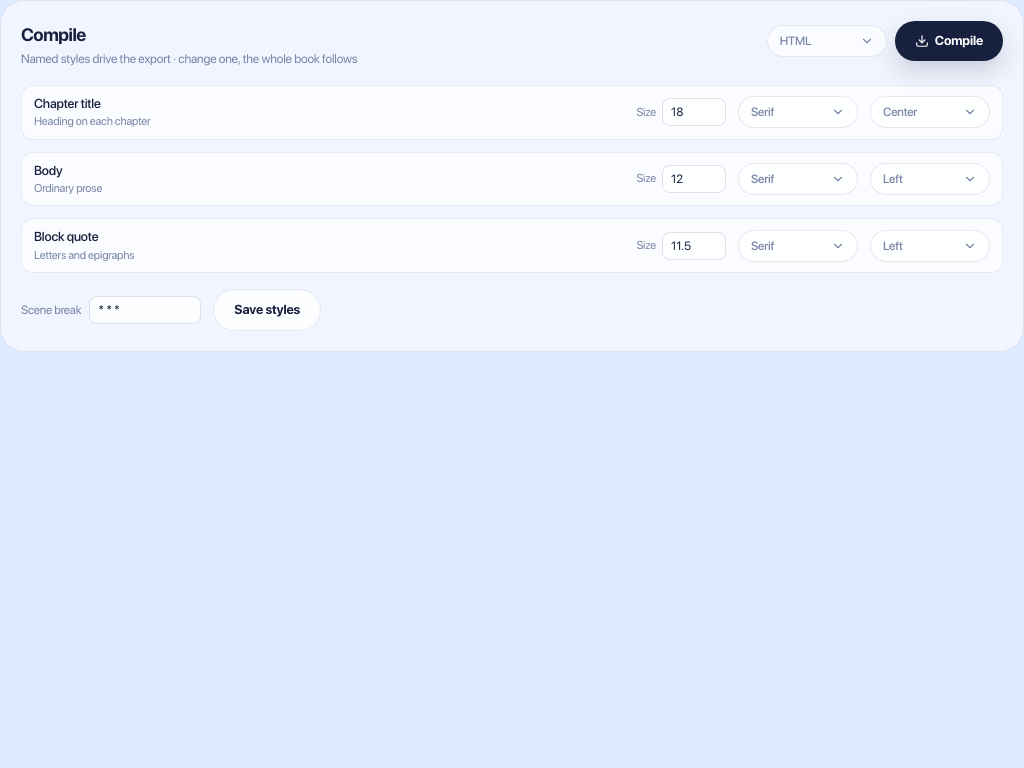
Test: a rejected sheet surfaces the reason and keeps the panel open
This screenshot has width=1024, height=768.
Click the button "Save styles".
click(267, 310)  # box [213,289,321,331]
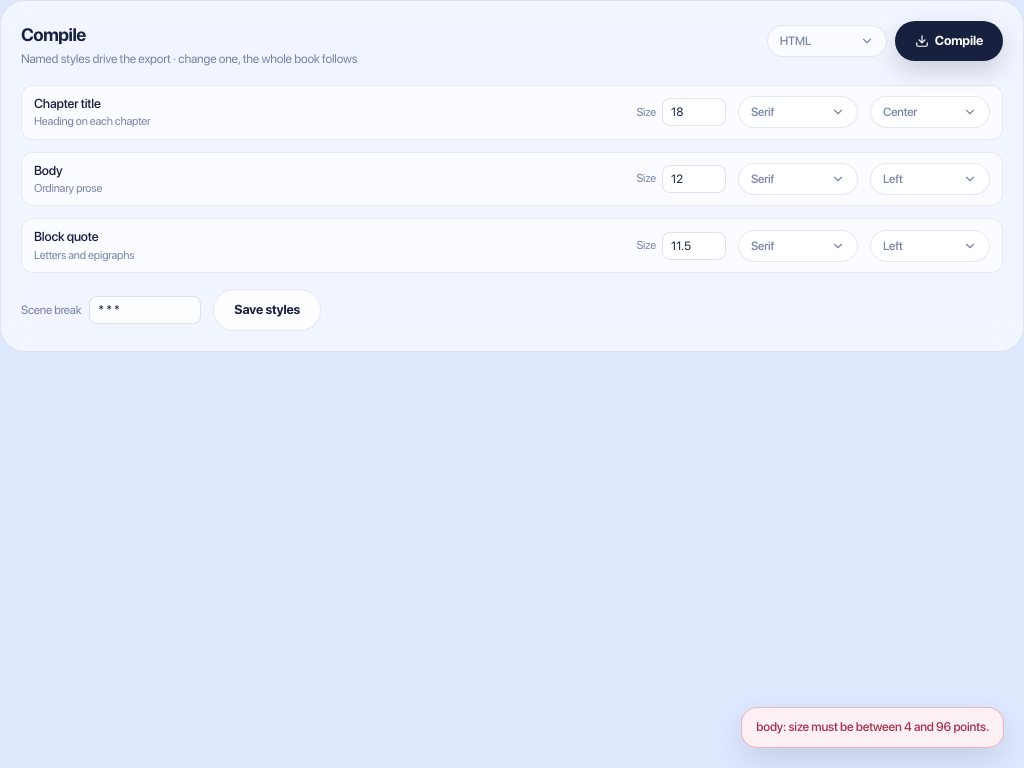
Expected: the text "body: size must be between 4 and 96 points." is shown, [741,707,1004,748]
